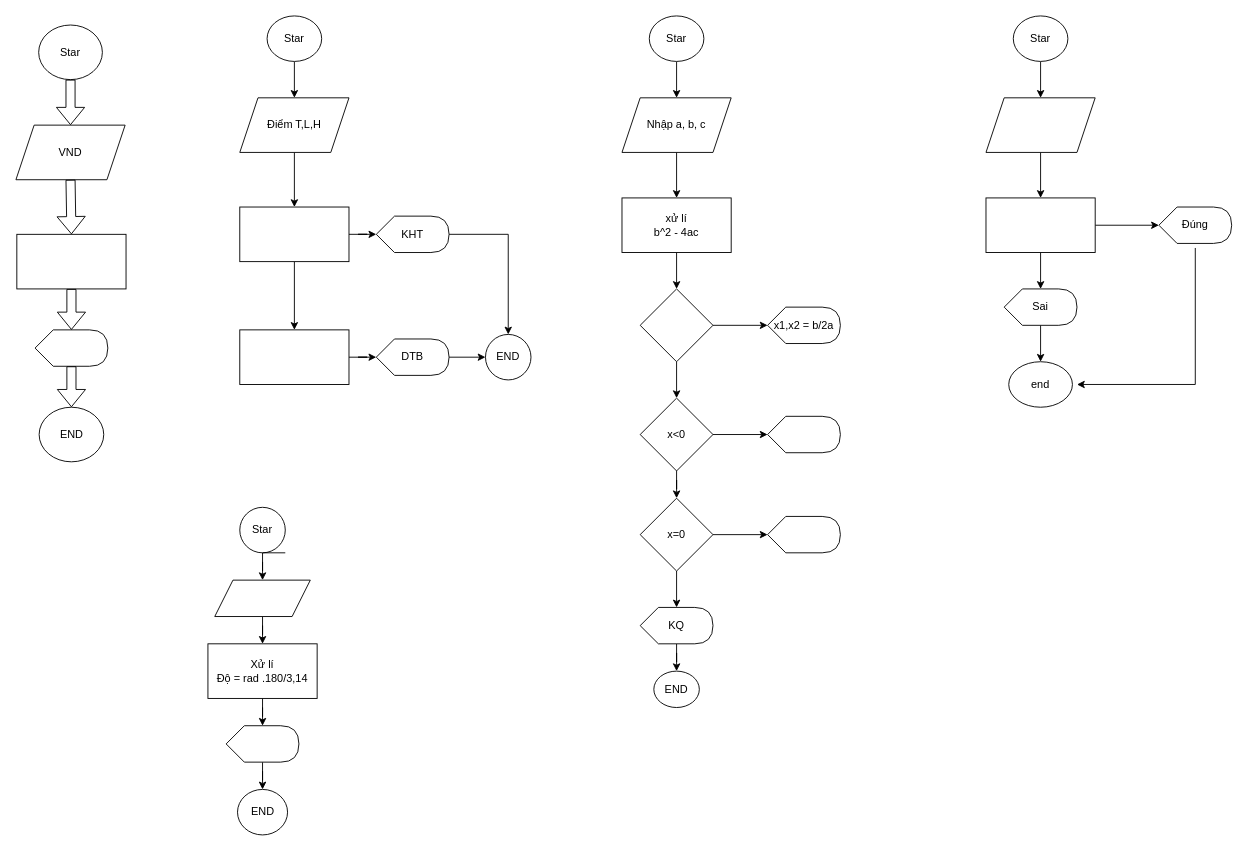
Some shapes in this 1248 by 851 pixel diagram are drawn without their labels. Each missing label, with the centre of its shape:
a=b: the point at 1040,225
Không có nghiệm thực: the point at 803,534
Nhập a,b: the point at 1040,124
Nhập rad: the point at 262,598
Toán, Lí, Hóa >= 0 <=10: the point at 294,234
USD: the point at 71,347
x > 0: the point at 676,325
x0 vô nghiêmj: the point at 803,434
Xử lí dữ liệu: the point at 71,261
ĐTB = TLH/3: the point at 294,356
Độ: the point at 262,743
